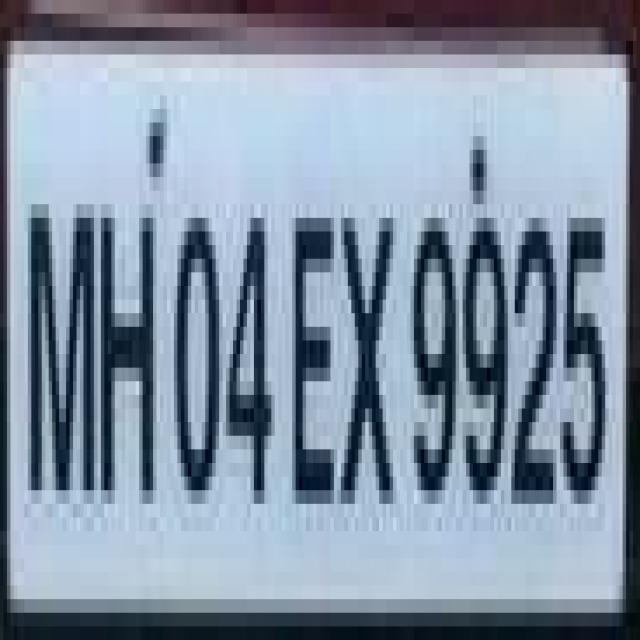license_plate: (3, 0, 616, 640)
